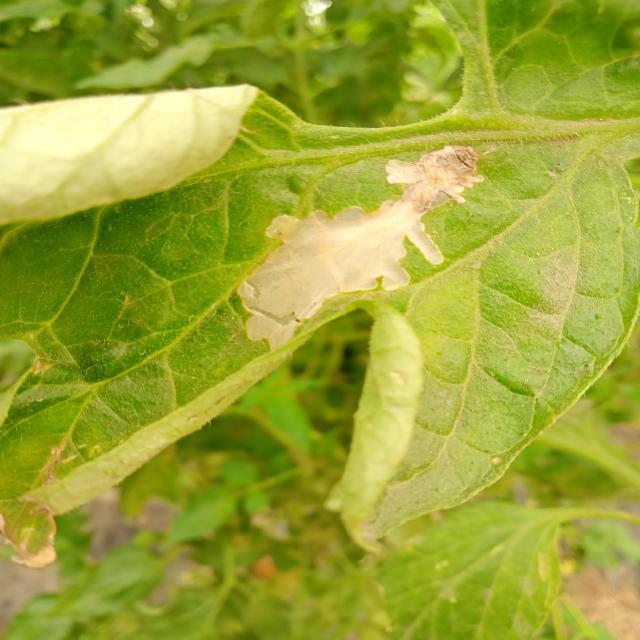Tuta absoluta: (207, 125, 515, 358)
